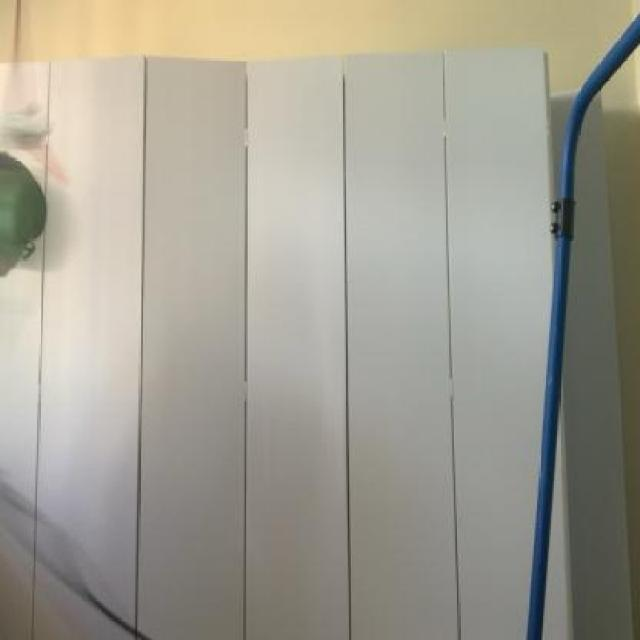baseball: (0, 156, 85, 290)
